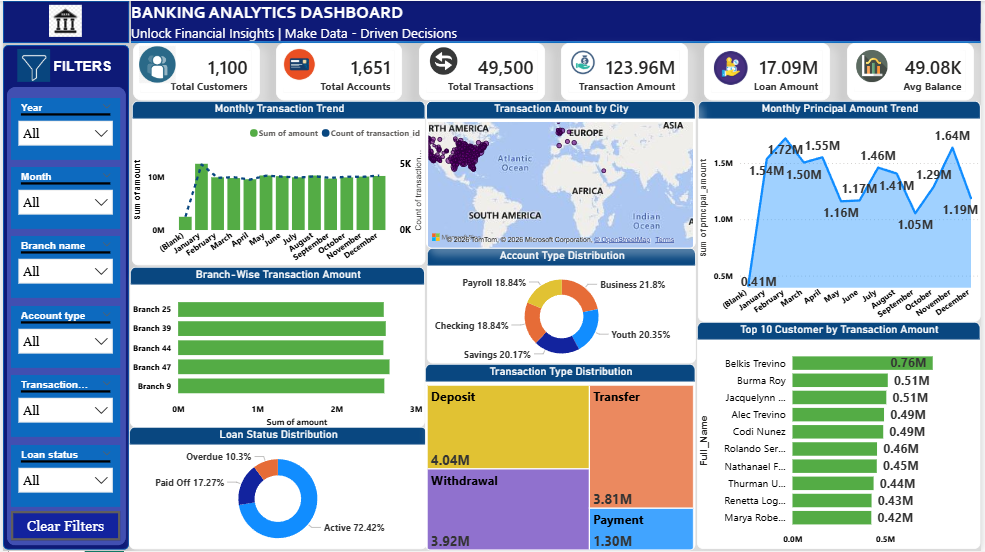

What the dashboard file says about the page in this screenshot:
{"tool":"powerbi","page":{"name":"Page 1","canvas":[1280,720],"ordinal":0},"visuals":[{"type":"shape","title":"    BANKING ANALYTICS DASHBOARD","box":[167.9,0,1112.1,55.1],"z":0},{"type":"cardVisual","fields":{"Data":["Measures (2).Total Transactions"]},"box":[544.1,54.7,165,75],"z":0,"group":"g3"},{"type":"shape","box":[0,0,165.2,55.1],"z":1000},{"type":"image","box":[554.3,54.7,43.2,47.2],"z":1000,"group":"g3"},{"type":"image","box":[60.6,0,42.7,52.3],"z":2000},{"type":"cardVisual","fields":{"Data":["Measures (2).Total Customers"]},"box":[170.3,55.1,165.6,75],"z":2001,"group":"g1"},{"type":"cardVisual","fields":{"Data":["Measures (2).Total Accounts"]},"box":[357.5,54.7,165,75],"z":2003,"group":"g2"},{"type":"cardVisual","fields":{"Data":["Measures (2).Avg Account Balance"]},"box":[1104.5,54.7,165.6,75],"z":2004,"group":"g6"},{"type":"cardVisual","fields":{"Data":["Measures (2).Total Loan Amount"]},"box":[917.9,54.7,165,75],"z":2005,"group":"g4"},{"type":"cardVisual","fields":{"Data":["Measures (2).Total Transaction Amount"]},"box":[730.7,54.7,165.6,75],"z":2006,"group":"g5"},{"type":"image","box":[364.4,58.6,48.2,47.7],"z":2009,"group":"g2"},{"type":"image","box":[178.6,57.9,48.2,50.9],"z":2010,"group":"g1"},{"type":"image","box":[928.1,64.2,49,47.2],"z":2012,"group":"g4"},{"type":"image","box":[735.6,63.1,47.5,34.8],"z":2013,"group":"g5"},{"type":"image","box":[1104.5,64.1,64.8,41.5],"z":2014,"group":"g6"},{"type":"group","id":"g1","title":"Group 1","box":[170.3,55.1,165.6,75],"z":3000},{"type":"group","id":"g2","title":"Group 2","box":[357.5,54.7,165,75],"z":4000},{"type":"group","id":"g3","title":"Group 3","box":[544.1,54.7,165,75],"z":5000},{"type":"group","id":"g4","title":"Group 4","box":[917.9,54.7,165,75],"z":6000},{"type":"group","id":"g5","title":"Group 5","box":[730.7,54.7,165.6,75],"z":7000},{"type":"group","id":"g6","title":"Group 6","box":[1104.5,54.7,165.6,75],"z":8000},{"type":"shape","box":[0,57.8,165.2,660.6],"z":9000},{"type":"image","box":[15.8,63.4,49,43.2],"z":10000},{"type":"shape","box":[5.5,112.9,155.5,600.1],"z":11000},{"type":"slicer","fields":{"Values":["public transactions.transaction_date.Variation.Date Hierarchy.Year"]},"box":[11,126.6,143,81.2],"z":12000},{"type":"slicer","fields":{"Values":["public transactions.transaction_date.Variation.Date Hierarchy.Month"]},"box":[11,217.5,143,81.2],"z":13000},{"type":"slicer","fields":{"Values":["public branches.branch_name"]},"box":[11,308.1,143,81],"z":14000},{"type":"slicer","fields":{"Values":["public account_types.type_name"]},"box":[11,399.1,143,81],"z":15000},{"type":"slicer","fields":{"Values":["public transaction_types.type_name"]},"box":[11,490.2,143,81],"z":16000},{"type":"slicer","fields":{"Values":["public loan_status.status_name"]},"box":[11,581.2,143,81],"z":17000},{"type":"actionButton","box":[11,667.5,143.1,38.5],"z":18000},{"type":"lineClusteredColumnComboChart","title":"Monthly Transaction Trend","fields":{"Y":["Sum(public transactions.amount)"],"Y2":["CountNonNull(public transactions.transaction_id)"],"Category":["public transactions.transaction_date.Variation.Date Hierarchy.Month"]},"box":[168.5,131,384.5,214.6],"z":19000},{"type":"clusteredBarChart","title":"Branch-Wise Transaction Amount","fields":{"Y":["Sum(public transactions.amount)"],"Category":["public branches.branch_name"]},"box":[166.3,347.7,386.4,210],"z":20000},{"type":"donutChart","title":"Account Type Distribution","fields":{"Category":["public account_types.type_name"],"Y":["CountNonNull(public accounts.account_id)"]},"box":[554.7,323.4,352.3,151.4],"z":21000},{"type":"donutChart","title":"Loan Status Distribution","fields":{"Category":["public loan_status.status_name"],"Y":["CountNonNull(public loans.loan_id)"]},"box":[164.6,557.7,389.7,159.6],"z":22000},{"type":"treemap","title":"Transaction Type Distribution","fields":{"Group":["public transaction_types.type_name"],"Values":["Sum(public transactions.amount)"]},"box":[552.7,475.4,354.4,243.6],"z":23000},{"type":"areaChart","title":"Monthly Principal Amount Trend","fields":{"Category":["public loans.start_date.Variation.Date Hierarchy.Month"],"Y":["Sum(public loans.principal_amount)"]},"box":[910.1,131,370.1,289.4],"z":24000},{"type":"barChart","title":"Top 10 Customer by Transaction Amount","fields":{"Y":["Sum(public transactions.amount)"],"Category":["public customers.Full_Name"]},"box":[908.8,419.9,371.2,297.3],"z":25000},{"type":"map","title":"Transaction Amount by City","fields":{"Size":["Sum(public transactions.amount)"],"Category":["public addresses.city"]},"box":[554.4,131,352.8,193],"z":26000}]}

Visuals, with their boxes in screenshot pixels (x1, y1, x2, y2), scaled from the page's 1280x720 canvas onto the 985x552 screenshot:
"    BANKING ANALYTICS DASHBOARD" shape: rect(129, 0, 984, 42)
cardVisual - Measures (2).Total Transactions: rect(419, 42, 546, 99)
shape: rect(0, 0, 127, 42)
image: rect(427, 42, 460, 78)
image: rect(47, 0, 79, 40)
cardVisual - Measures (2).Total Customers: rect(131, 42, 258, 100)
cardVisual - Measures (2).Total Accounts: rect(275, 42, 402, 99)
cardVisual - Measures (2).Avg Account Balance: rect(850, 42, 977, 99)
cardVisual - Measures (2).Total Loan Amount: rect(706, 42, 833, 99)
cardVisual - Measures (2).Total Transaction Amount: rect(562, 42, 690, 99)
image: rect(280, 45, 318, 81)
image: rect(137, 44, 175, 83)
image: rect(714, 49, 752, 85)
image: rect(566, 48, 603, 75)
image: rect(850, 49, 900, 81)
"Group 1" group: rect(131, 42, 258, 100)
"Group 2" group: rect(275, 42, 402, 99)
"Group 3" group: rect(419, 42, 546, 99)
"Group 4" group: rect(706, 42, 833, 99)
"Group 5" group: rect(562, 42, 690, 99)
"Group 6" group: rect(850, 42, 977, 99)
shape: rect(0, 44, 127, 551)
image: rect(12, 49, 50, 82)
shape: rect(4, 87, 124, 547)
slicer - public transactions.transaction_date.Variation.Date Hierarchy.Year: rect(8, 97, 119, 159)
slicer - public transactions.transaction_date.Variation.Date Hierarchy.Month: rect(8, 167, 119, 229)
slicer - public branches.branch_name: rect(8, 236, 119, 298)
slicer - public account_types.type_name: rect(8, 306, 119, 368)
slicer - public transaction_types.type_name: rect(8, 376, 119, 438)
slicer - public loan_status.status_name: rect(8, 446, 119, 508)
actionButton: rect(8, 512, 119, 541)
"Monthly Transaction Trend" lineClusteredColumnComboChart: rect(130, 100, 426, 265)
"Branch-Wise Transaction Amount" clusteredBarChart: rect(128, 267, 425, 428)
"Account Type Distribution" donutChart: rect(427, 248, 698, 364)
"Loan Status Distribution" donutChart: rect(127, 428, 427, 550)
"Transaction Type Distribution" treemap: rect(425, 364, 698, 551)
"Monthly Principal Amount Trend" areaChart: rect(700, 100, 984, 322)
"Top 10 Customer by Transaction Amount" barChart: rect(699, 322, 984, 550)
"Transaction Amount by City" map: rect(427, 100, 698, 248)
